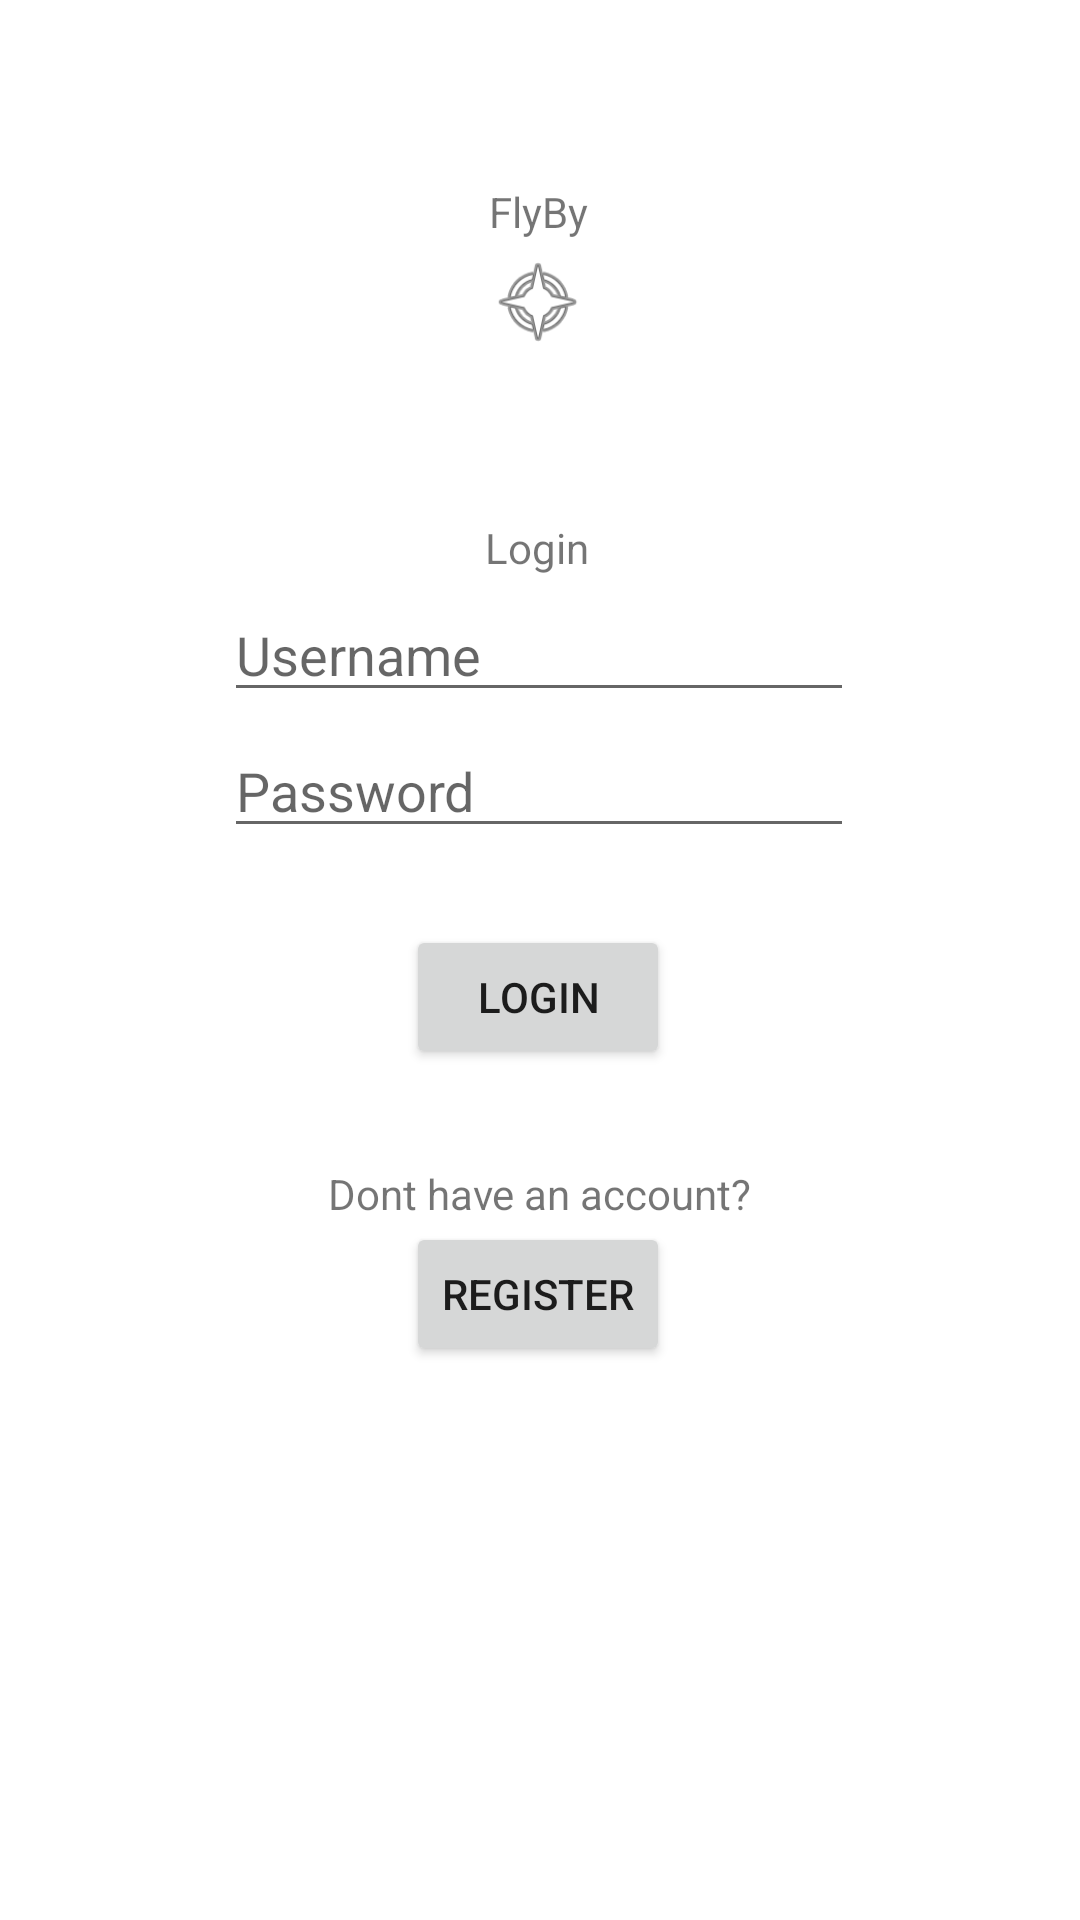

Icons on this 1080x1920 Android screen, each with its box as (x1, y1, x2, y2):
compass: (499, 263, 577, 341)
